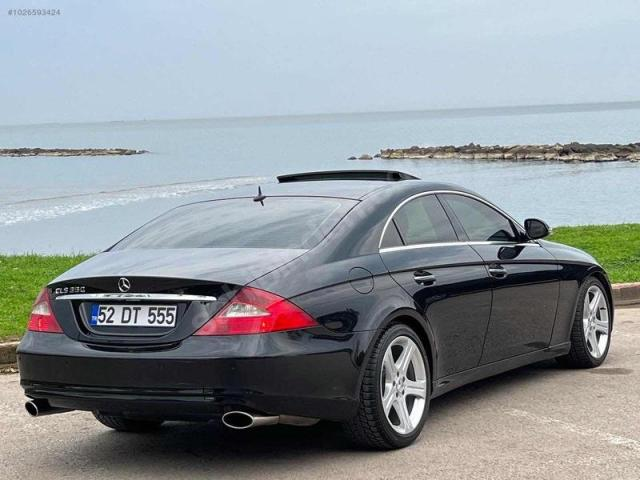plaka: (90, 304, 177, 327)
